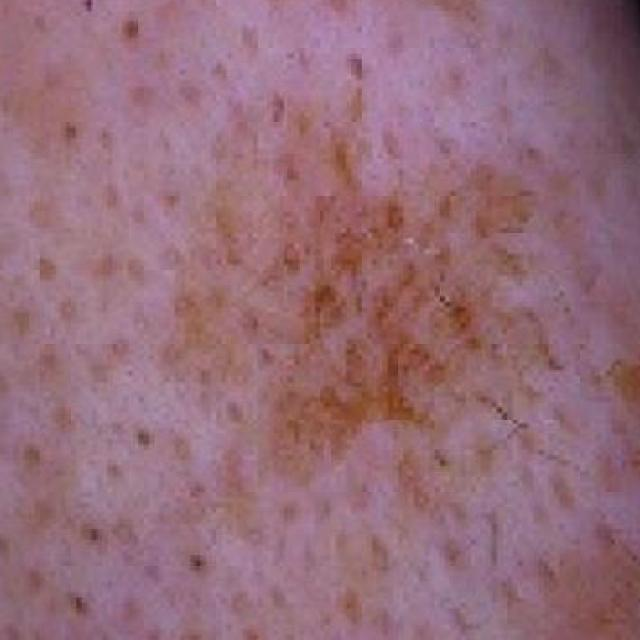BKL: (194, 90, 640, 640)
